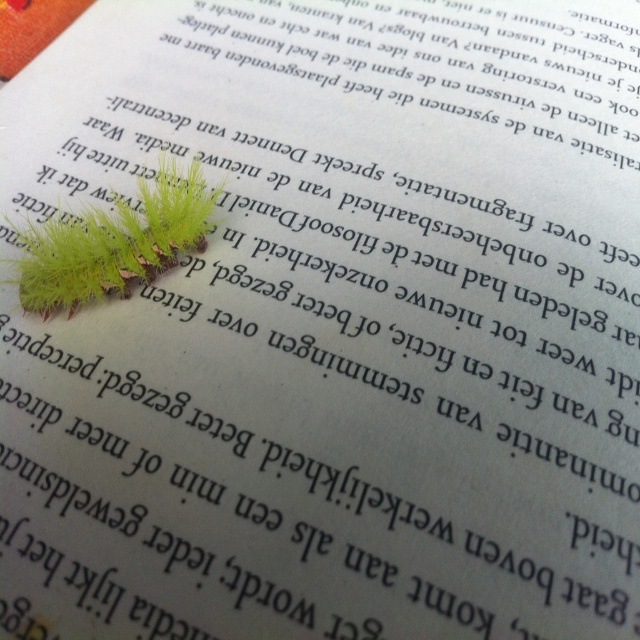Caterpillar: (4, 152, 221, 304)
